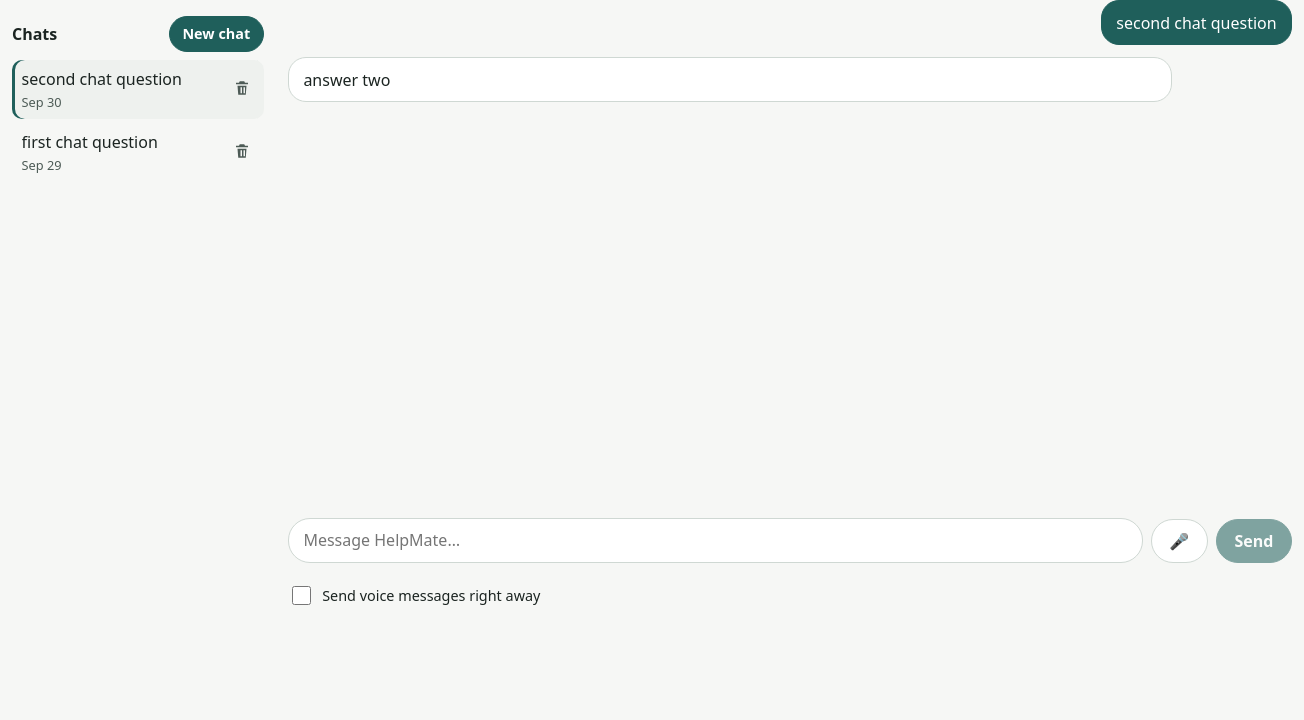
the chat list › deleting the open chat starts a new one
Expected: the text "answer two" is shown, [288,57,1172,102]
Click the button named "Delete chat “second chat question”". click: (242, 90)
box: [220,60,264,119]
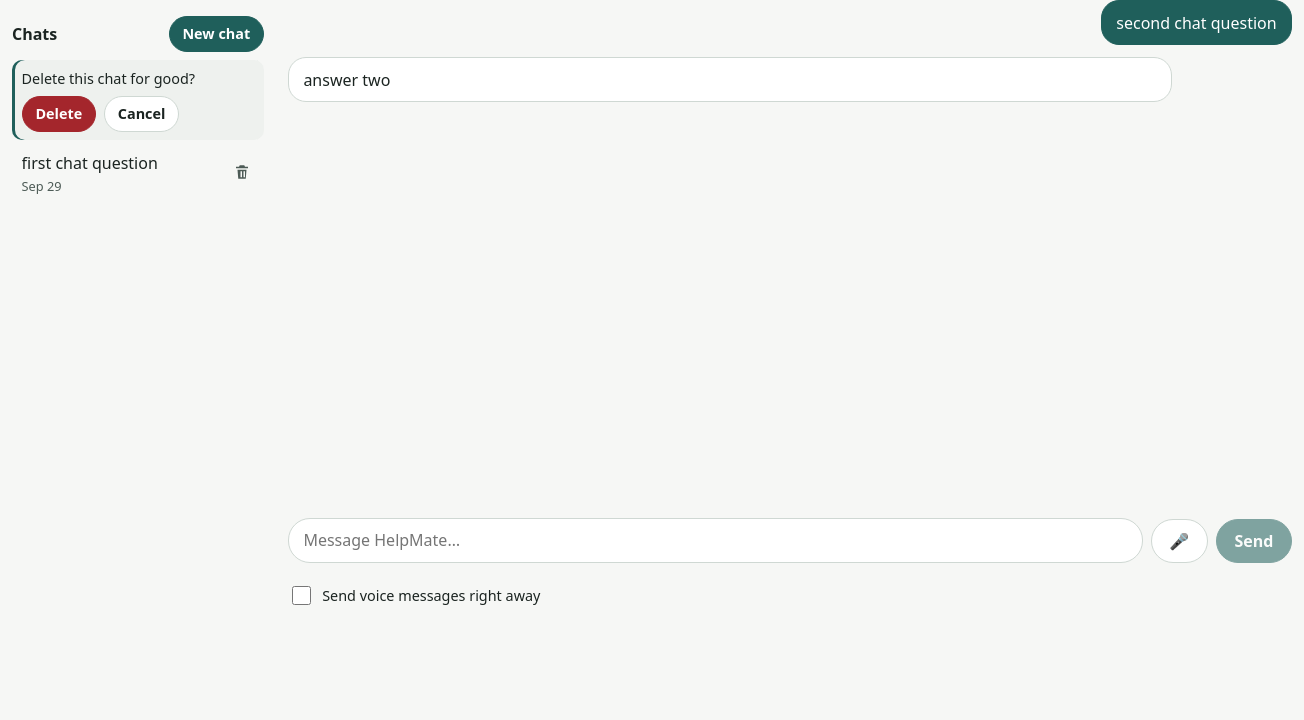
Click the button "Delete". click: (59, 114)
box: [22,96,96,132]
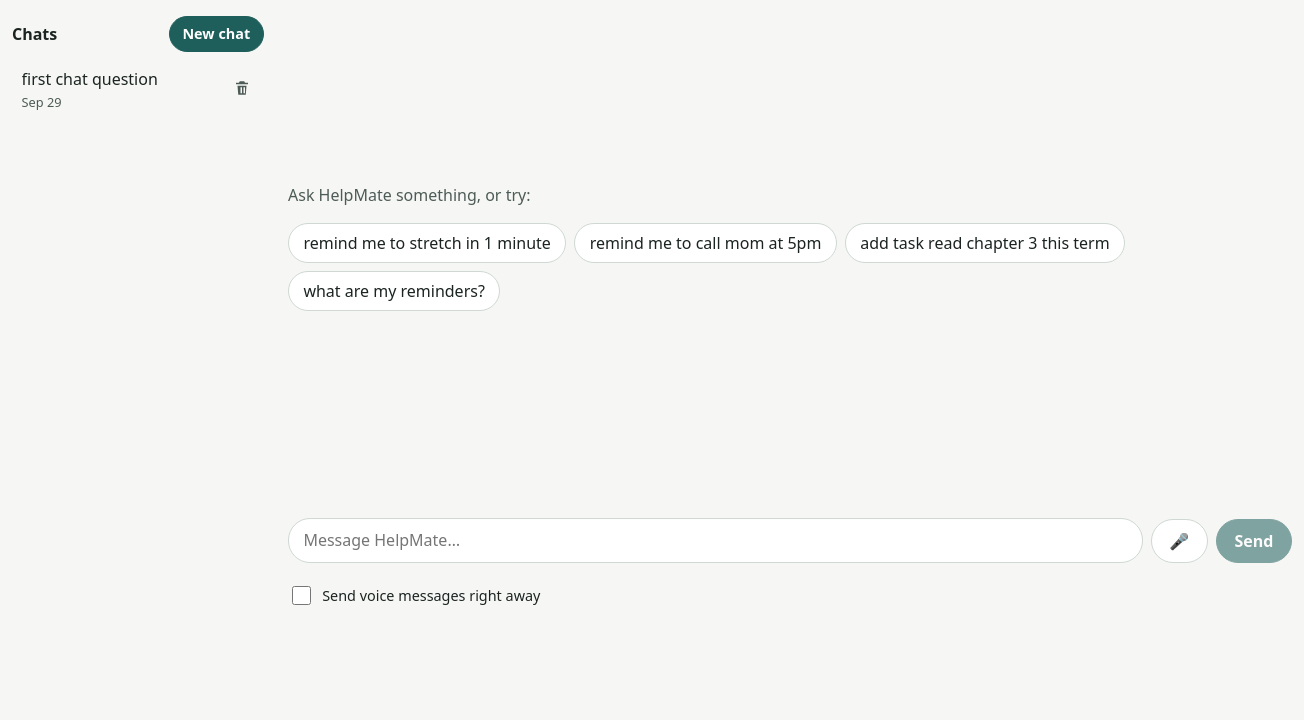
Result: the button "what are my reminders?" is shown at [288,271,500,311]
Result: the text "answer two" is gone
